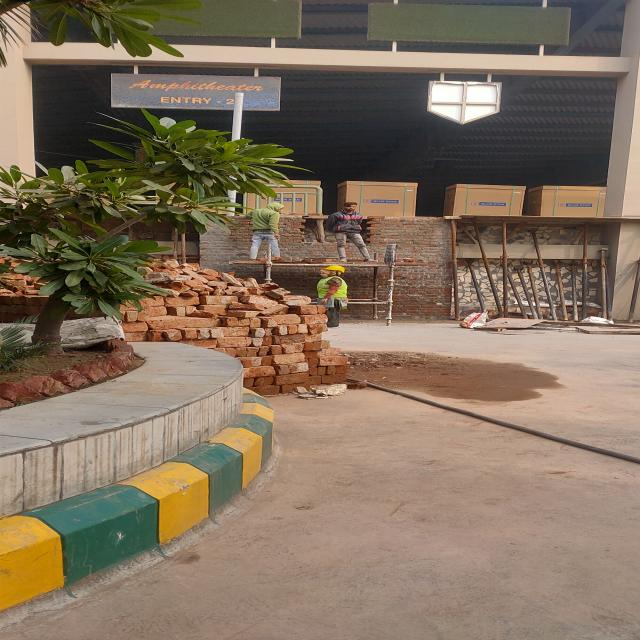safe: (314, 264, 354, 327)
unsafe: (324, 202, 379, 261), (250, 202, 285, 260)
